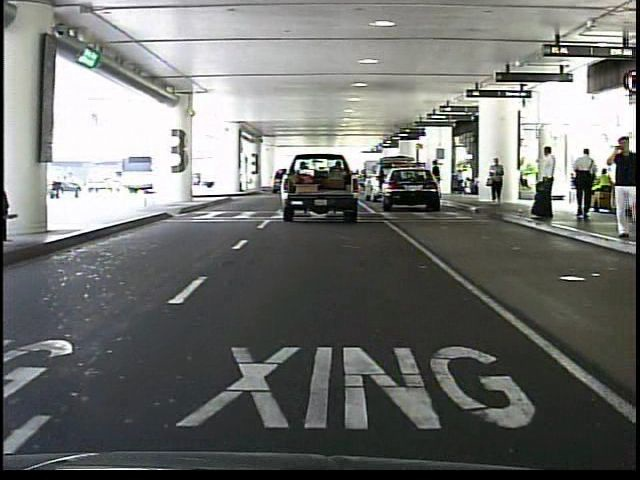person: (604, 137, 640, 248), (569, 145, 600, 223), (532, 143, 561, 224), (485, 155, 509, 211), (431, 158, 445, 202)
